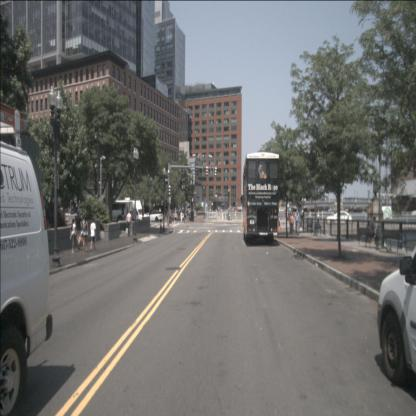human-pedestrian-adult: (74, 210, 83, 250), (82, 213, 89, 254), (370, 216, 378, 245), (294, 210, 300, 236), (126, 211, 132, 237), (289, 211, 294, 235), (300, 207, 304, 227), (316, 209, 320, 223), (283, 208, 286, 226), (158, 207, 162, 220), (164, 206, 167, 221), (174, 210, 177, 224), (182, 211, 185, 223), (186, 207, 189, 219), (180, 210, 182, 224), (178, 208, 180, 220), (234, 208, 236, 220)
vehicle-bus-rigid: (242, 151, 280, 246), (110, 200, 132, 226)
vehicle-car: (0, 139, 53, 416), (377, 244, 416, 386), (326, 210, 354, 226), (146, 210, 164, 222)
vehicle-truck: (127, 199, 148, 224)
